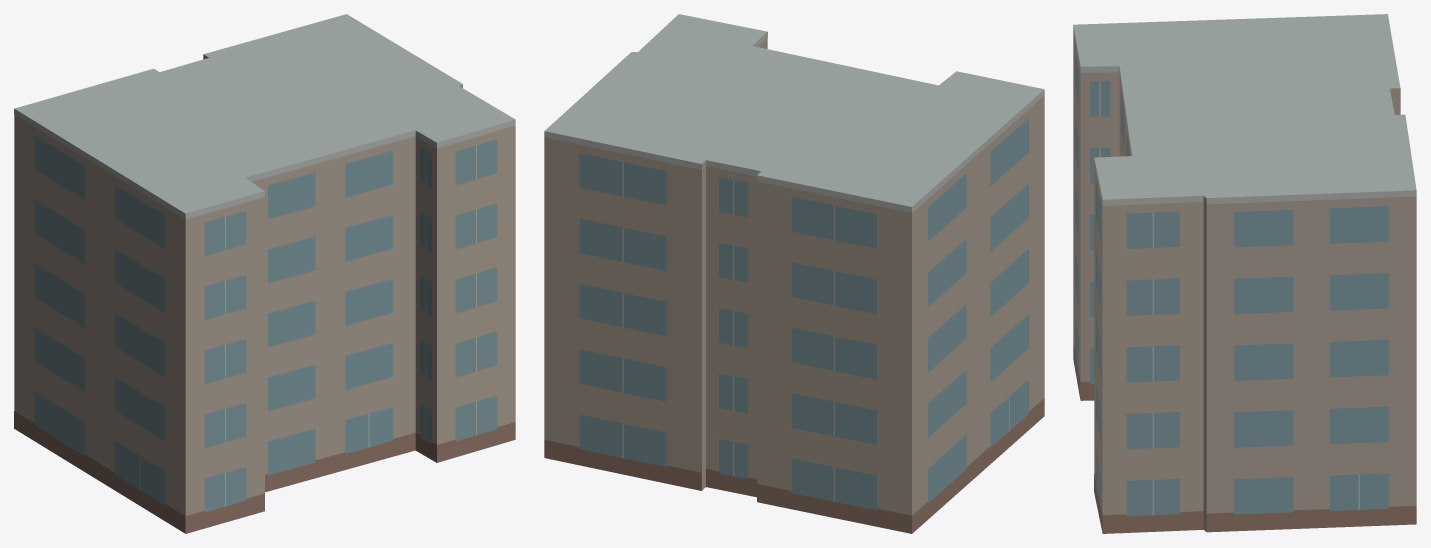
The model's file is survey-upis-32759651.glb.
3 views of the same model, side by side, from view 1: azimuth 30°, elevation 25°; view 2: azimuth 150°, elevation 25°; view 3: azimuth 270°, elevation 25° (orthographic). The views are drawn at different scales.
Visible parts, largest first — view 1: survey-upis-32759651.tmp; view 2: survey-upis-32759651.tmp; view 3: survey-upis-32759651.tmp.
Part boxes in pixels (x1,y1,x2,y2): survey-upis-32759651.tmp: (14,14,515,533); survey-upis-32759651.tmp: (544,14,1044,533); survey-upis-32759651.tmp: (1073,14,1416,533).
Size of the model in its own units: 15.76 by 13.2 by 12.3.
